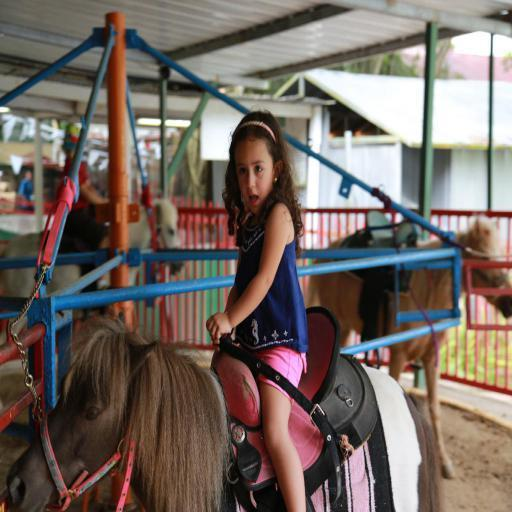horse: (4, 313, 446, 512), (304, 212, 512, 478), (0, 194, 185, 314)
